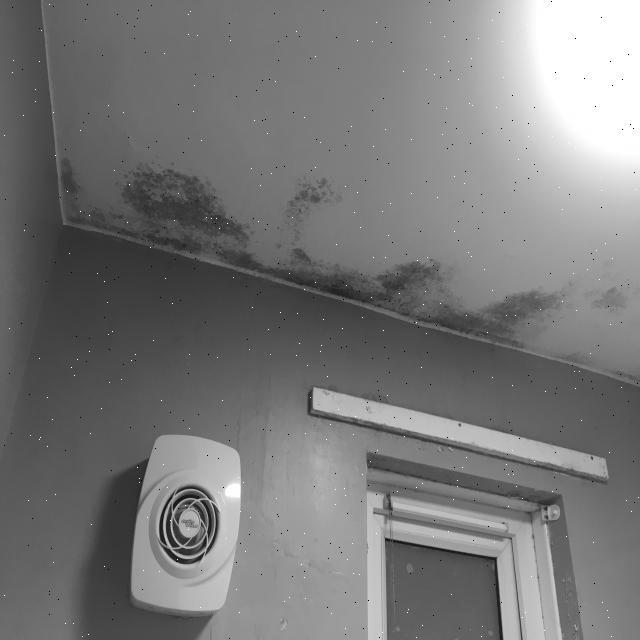stain marks: (51, 130, 640, 408)
